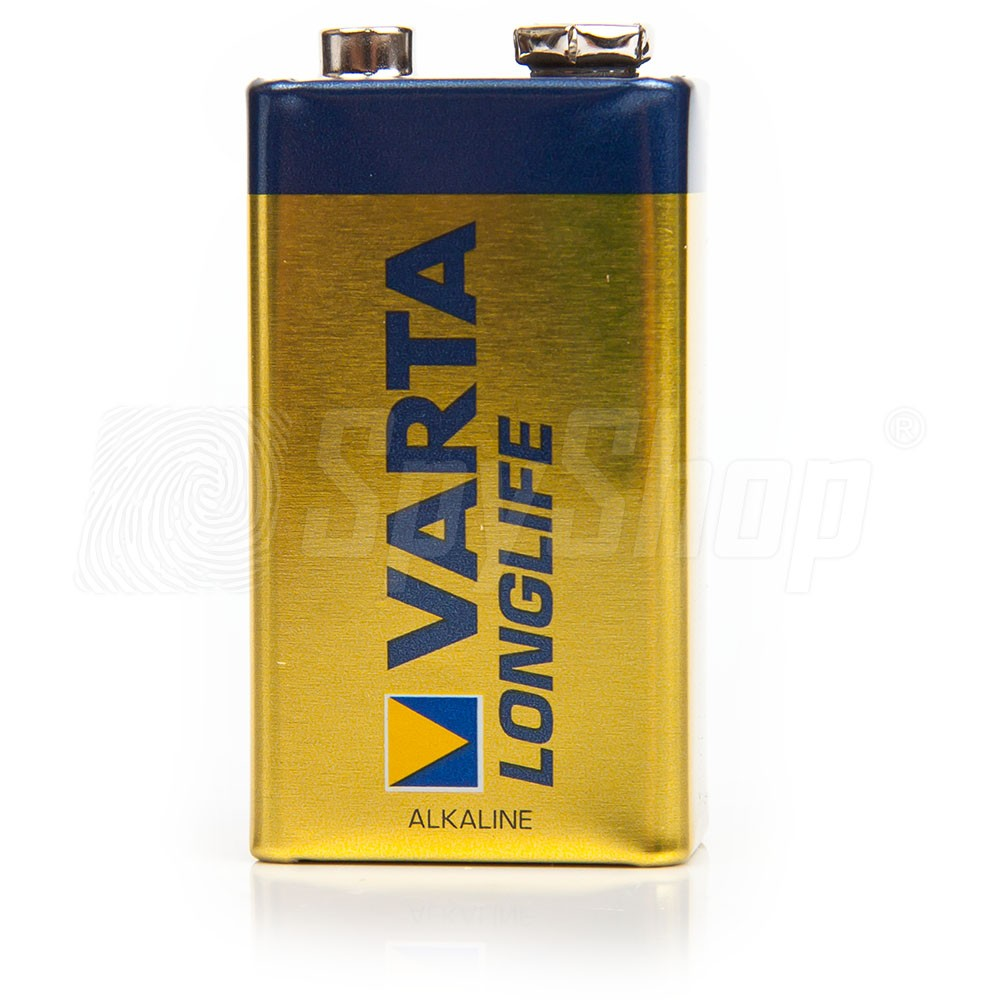9V: (234, 21, 733, 876)
